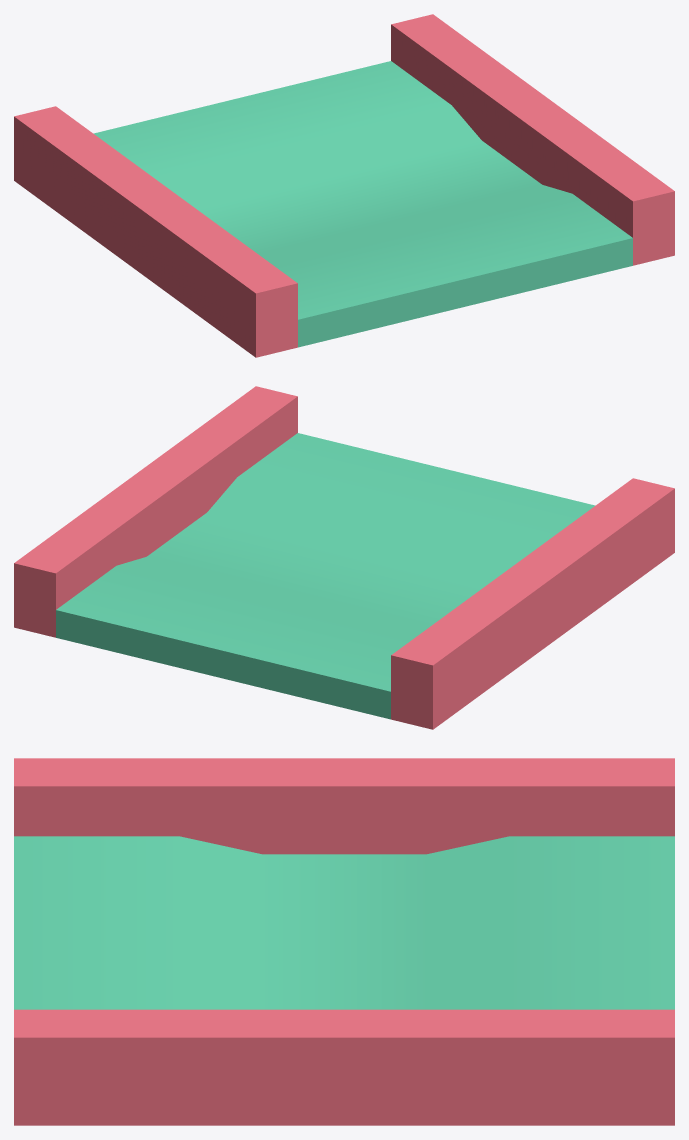
File: crest.glb
3 views of the same model, one above another, from view 1: azimuth 30°, elevation 25°; view 2: azimuth 150°, elevation 25°; view 3: azimuth 270°, elevation 25° (orthographic). The views are drawn at different scales.
Visible parts, largest first — view 1: crest; view 2: crest; view 3: crest.
Part boxes in pixels (x1,y1,x2,y2): crest: (14, 14, 674, 357); crest: (14, 386, 674, 729); crest: (14, 758, 674, 1125).
Size of the model in its own units: 0.9999 by 0.1467 by 0.9999.
